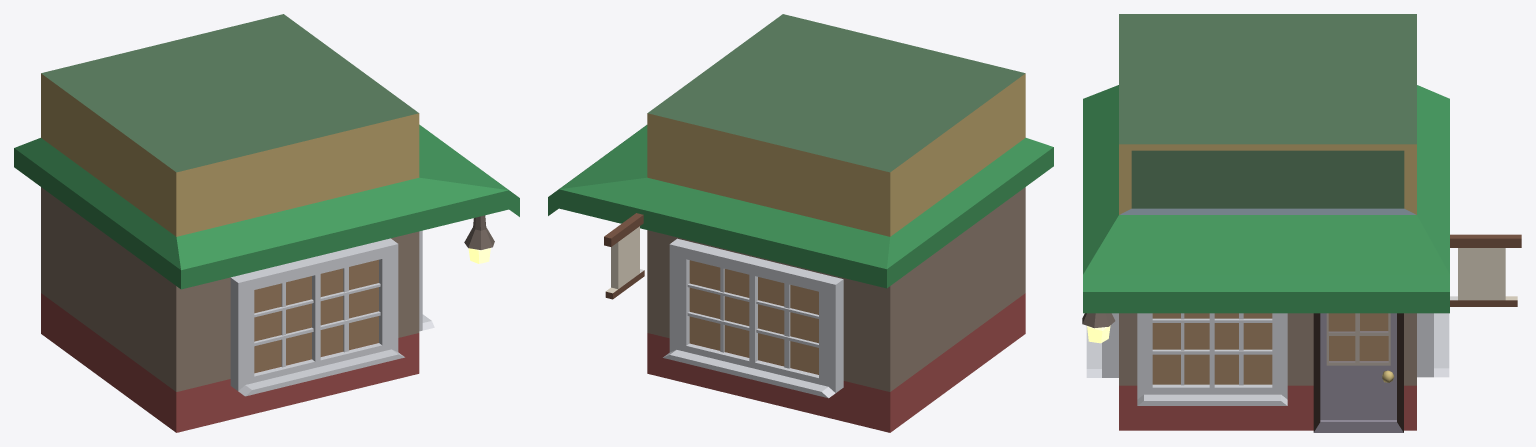
Rendered from pawnshop.glb.
3 renders of one model, left to right at view 1: azimuth 30°, elevation 25°; view 2: azimuth 150°, elevation 25°; view 3: azimuth 270°, elevation 25°, orthographic. The views are drawn at different scales.
Parts seen in each view (by area): view 1: Cube; view 2: Cube; view 3: Cube.
Boxes of the visible parts, x1=… form: Cube: x1=14, y1=14, x2=519, y2=432; Cube: x1=548, y1=14, x2=1053, y2=432; Cube: x1=1082, y1=14, x2=1521, y2=432.
Bounding box in the file's own units: 8.96 × 6.59 × 9.15.
